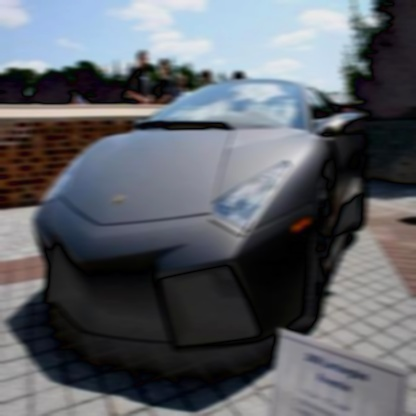Vehicle: (34, 80, 370, 354)
